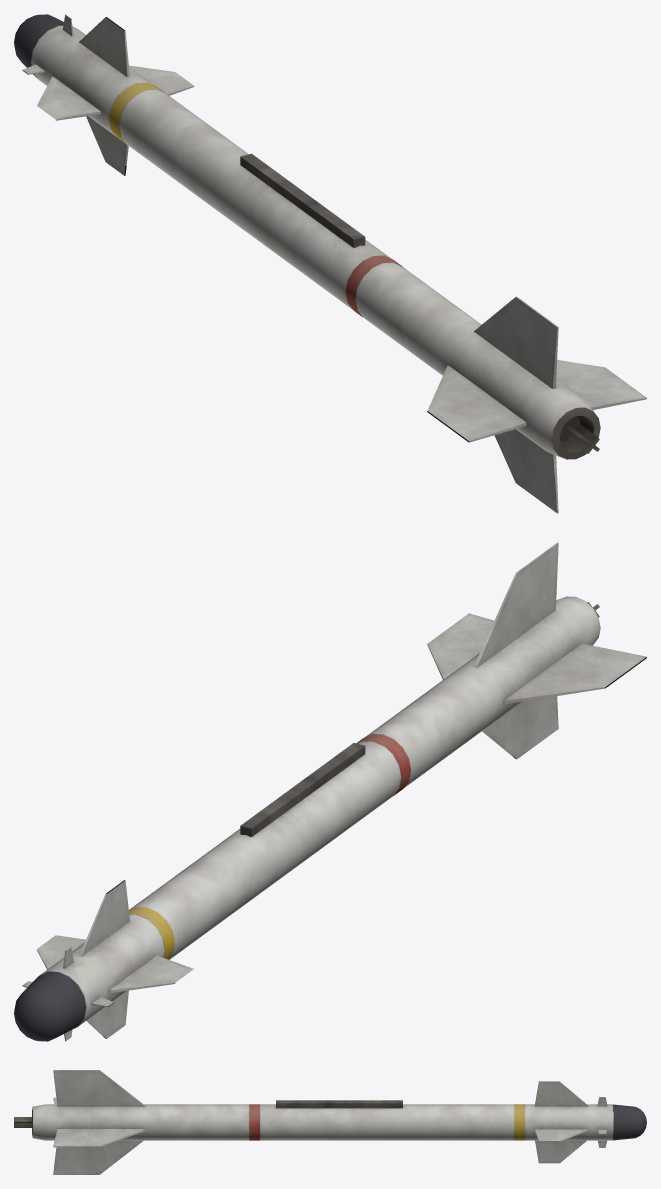
File: aam_hobs.glb
3 renders of one model, top to bottom at view 1: azimuth 30°, elevation 25°; view 2: azimuth 150°, elevation 25°; view 3: azimuth 270°, elevation 25°, orthographic. The views are drawn at different scales.
Parts seen in each view (by area): view 1: body; view 2: body; view 3: body.
Part boxes in pixels (x1,y1,x2,y2): body: (14,14,646,513); body: (14,542,646,1041); body: (14,1070,646,1174).
Bounding box in the file's own units: 0.5433 × 0.5433 × 2.99.
1 material, 1 textured.
